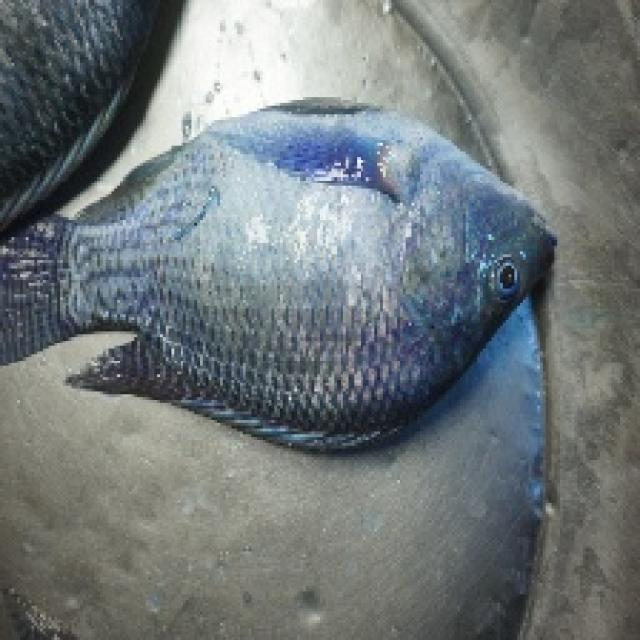Fresh: (0, 143, 560, 442)
